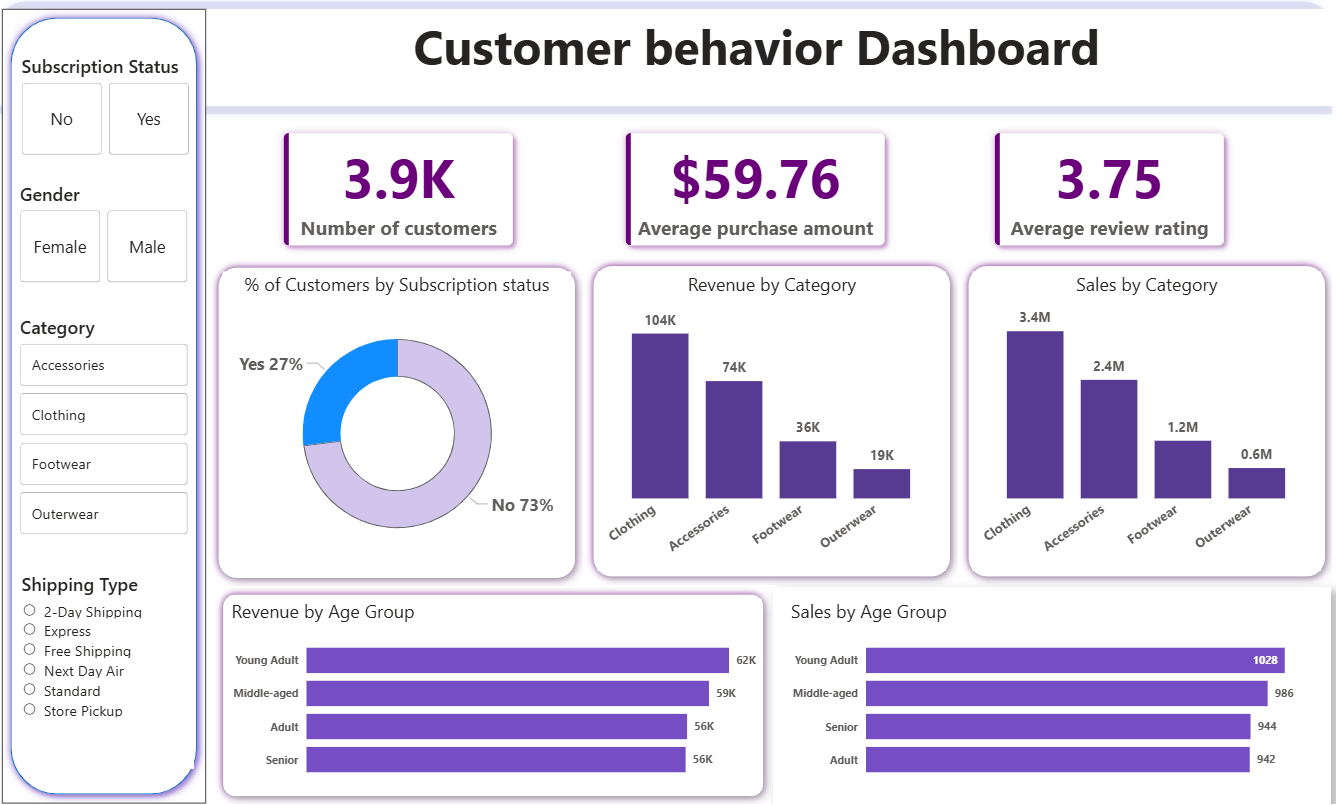

Layout of this report page (visuals, bound fields, positions):
{"tool":"powerbi","page":{"name":"Page 1","canvas":[1500,900],"ordinal":0},"visuals":[{"type":"cardVisual","fields":{"Data":["customer_behavior customer.Number of customers"]},"box":[296.9,124.8,313.9,183.4],"z":0},{"type":"cardVisual","fields":{"Data":["customer_behavior customer.Average purchase amount"]},"box":[675.9,124.8,346,183.4],"z":1000},{"type":"cardVisual","fields":{"Data":["customer_behavior customer.Average review rating"]},"box":[1087.2,124.8,313.9,183.4],"z":2000},{"type":"shape","box":[0,0,1499.4,141.8],"z":3000},{"type":"textbox","box":[0,17,1499.4,107.8],"z":4000},{"type":"shape","box":[245.8,295,414.1,363],"z":5000},{"type":"donutChart","title":"% of Customers by Subscription status","fields":{"Category":["customer_behavior customer.subscription_status"],"Y":["CountNonNull(customer_behavior customer.customer_id)"]},"box":[259,308.2,387.6,332.8],"z":6000},{"type":"shape","box":[661.8,293.1,414.1,363],"z":7000},{"type":"shape","box":[1077.7,294,414.1,363],"z":8000},{"type":"clusteredColumnChart","title":"Revenue by Category","fields":{"Y":["Sum(customer_behavior customer.purchase_amount)"],"Category":["customer_behavior customer.category"]},"box":[675,308.2,387.6,332.8],"z":9000},{"type":"clusteredColumnChart","title":"Sales by Category","fields":{"Category":["customer_behavior customer.category"],"Y":["Sum(customer_behavior customer.customer_id)"]},"box":[1091,308.2,387.6,332.8],"z":10000},{"type":"shape","box":[13.2,17,226.9,883],"z":11000},{"type":"advancedSlicerVisual","title":"Subscription Status","fields":{"Values":["customer_behavior customer.subscription_status"]},"box":[30.3,66.2,196.6,117.2],"z":12000},{"type":"advancedSlicerVisual","title":"Gender","fields":{"Values":["customer_behavior customer.gender"]},"box":[28.4,208,196.6,117.2],"z":13000},{"type":"advancedSlicerVisual","title":"Category","fields":{"Values":["customer_behavior customer.category"]},"box":[28.4,357.4,196.6,251.5],"z":14000},{"type":"listSlicer","title":"Shipping Type","fields":{"Values":["customer_behavior customer.shipping_type"]},"box":[30.3,641,196.6,219.3],"z":15000},{"type":"shape","box":[249.6,658,618.3,242],"z":16000},{"type":"clusteredBarChart","title":"Sales by Age Group","fields":{"Category":["customer_behavior customer.age_group"],"Y":["CountNonNull(customer_behavior customer.customer_id)"]},"box":[884.9,671.2,593.7,213.7],"z":17000},{"type":"shape","box":[869.8,658,620,242],"z":18000},{"type":"clusteredBarChart","title":"Revenue by Age Group","fields":{"Category":["customer_behavior customer.age_group"],"Y":["Sum(customer_behavior customer.purchase_amount)"]},"box":[262.8,671.2,593.7,213.7],"z":19000}]}

Visuals, with their boxes in screenshot pixels (x1, y1, x2, y2), scaled from the page's 1500x900 canvas onto the 1336x805 screenshot:
cardVisual - customer_behavior customer.Number of customers: 264:112:544:276
cardVisual - customer_behavior customer.Average purchase amount: 602:112:910:276
cardVisual - customer_behavior customer.Average review rating: 968:112:1248:276
shape: 0:0:1335:127
textbox: 0:15:1335:112
shape: 219:264:588:589
"% of Customers by Subscription status" donutChart: 231:276:576:573
shape: 589:262:958:587
shape: 960:263:1329:588
"Revenue by Category" clusteredColumnChart: 601:276:946:573
"Sales by Category" clusteredColumnChart: 972:276:1317:573
shape: 12:15:214:804
"Subscription Status" advancedSlicerVisual: 27:59:202:164
"Gender" advancedSlicerVisual: 25:186:200:291
"Category" advancedSlicerVisual: 25:320:200:545
"Shipping Type" listSlicer: 27:573:202:769
shape: 222:589:773:804
"Sales by Age Group" clusteredBarChart: 788:600:1317:791
shape: 775:589:1327:804
"Revenue by Age Group" clusteredBarChart: 234:600:763:791
